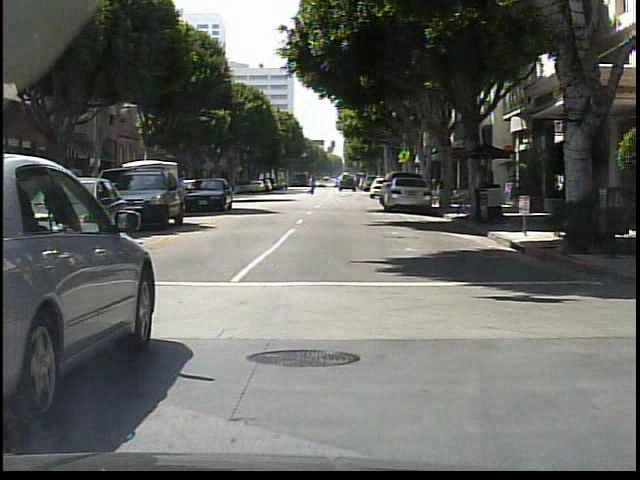person: (581, 167, 598, 238), (476, 164, 494, 222), (308, 177, 318, 196)
